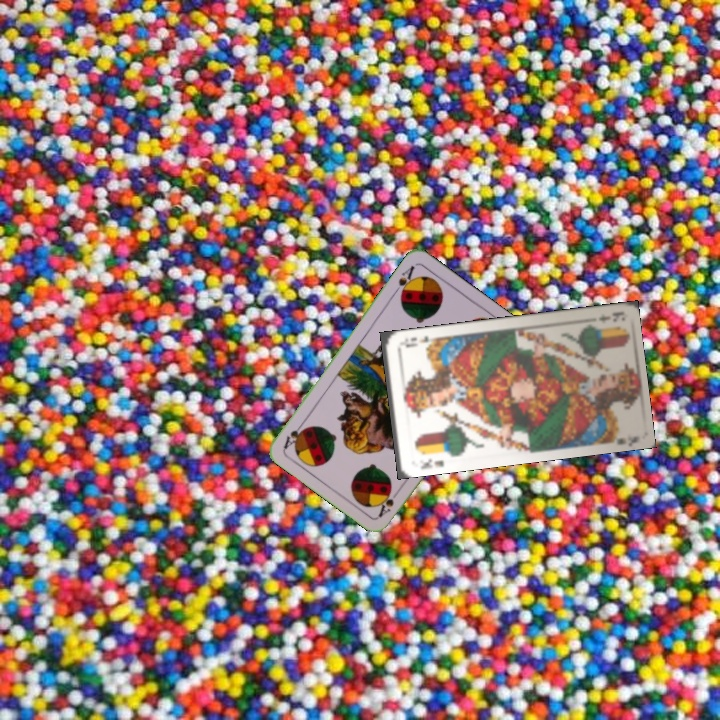EK: (416, 454, 446, 472), (594, 308, 623, 325)
SA: (389, 261, 418, 300), (374, 484, 404, 520)
